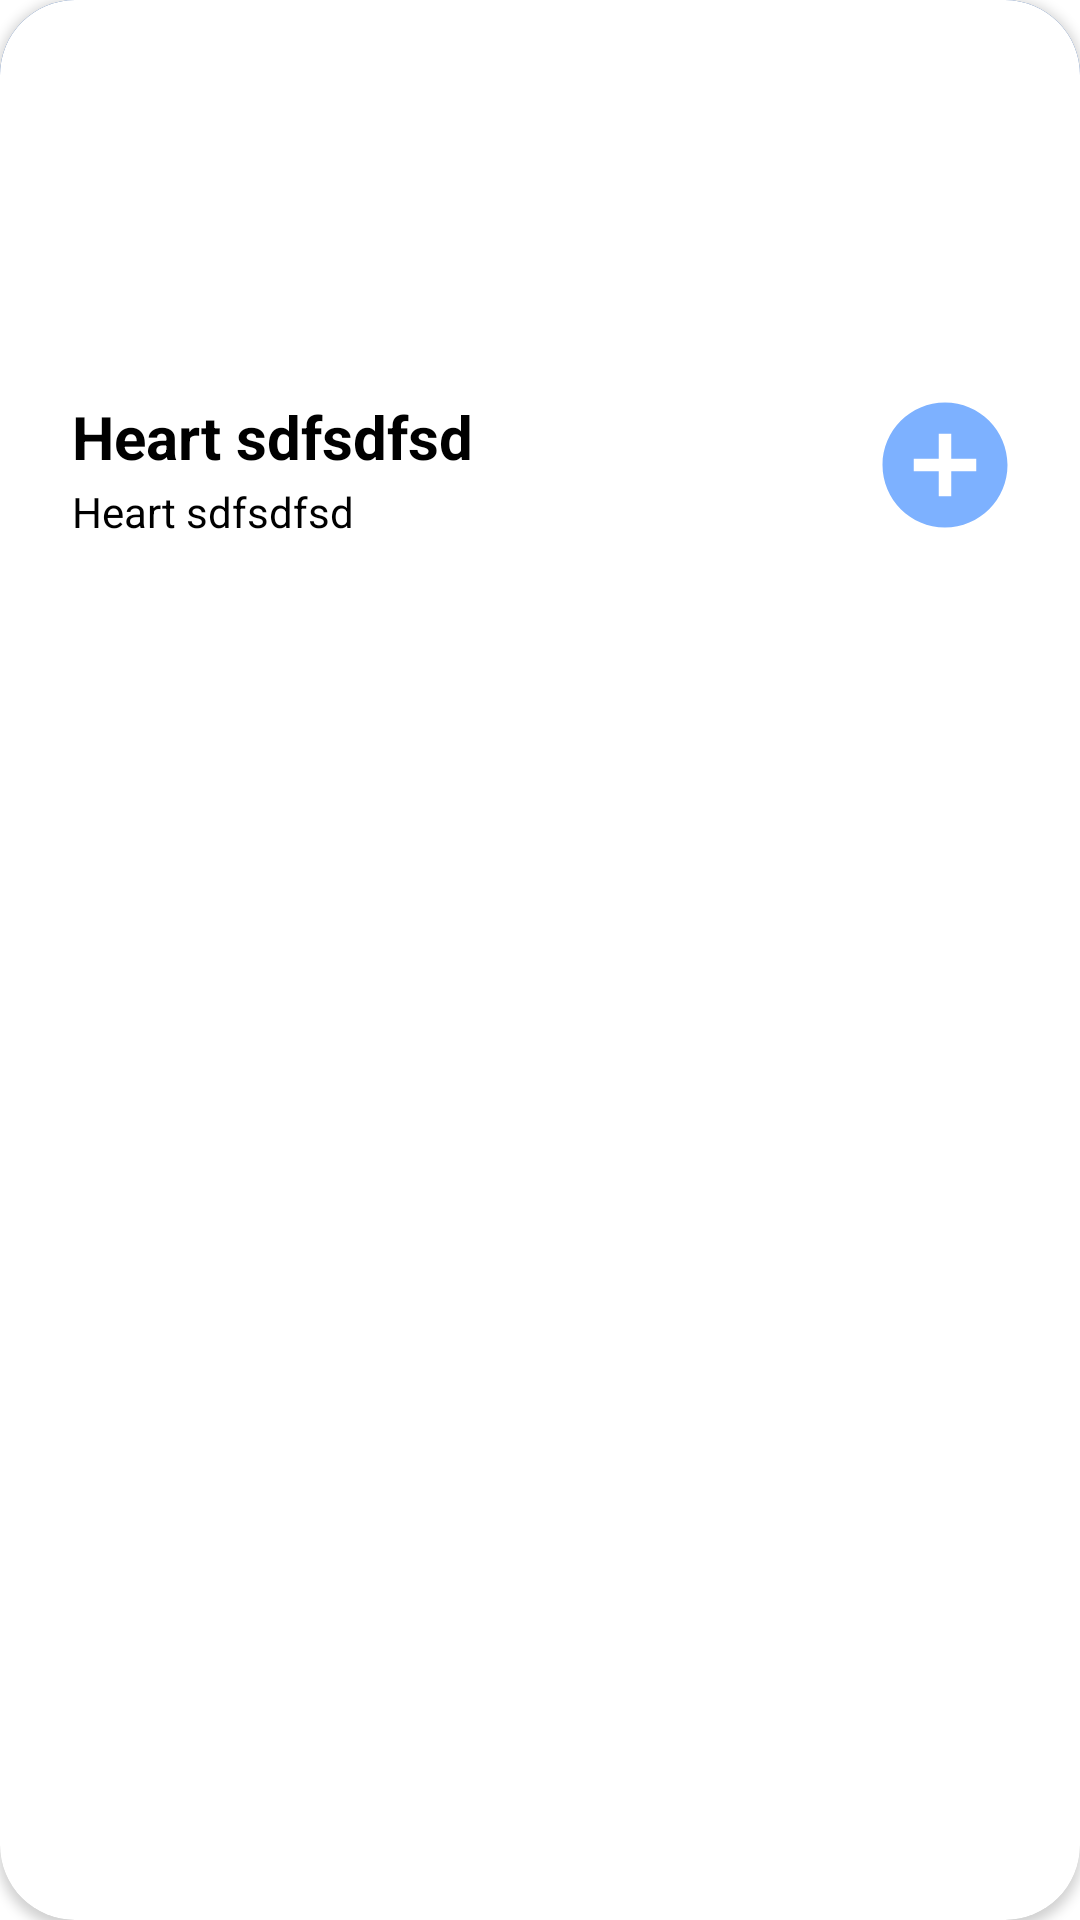

Screen size 1080x1920. Icon name, then its box in pixels as (x1,y1,x2,y2):
add circle: (882,402,1008,528)
